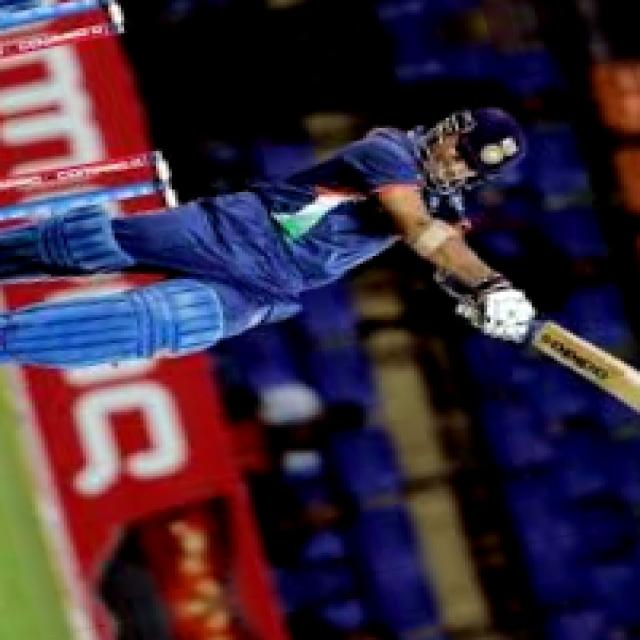toe: (621, 363, 640, 421)
